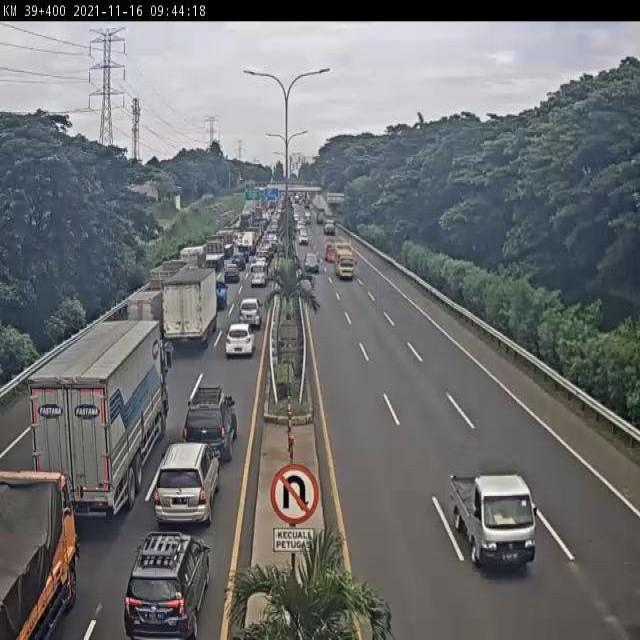car: (122, 532, 209, 640), (451, 472, 540, 571), (159, 439, 213, 521), (187, 388, 237, 449), (224, 322, 254, 358), (236, 298, 261, 330), (303, 244, 320, 273), (249, 262, 266, 286), (232, 252, 247, 272), (254, 250, 270, 266), (225, 264, 238, 283), (299, 228, 309, 244), (303, 211, 311, 224), (297, 219, 303, 229), (293, 211, 299, 220)
small truck: (128, 289, 161, 340), (334, 237, 356, 279), (322, 214, 335, 234), (325, 235, 335, 260), (315, 208, 325, 221)
truck-l-: (26, 319, 171, 525), (203, 240, 224, 271), (215, 231, 234, 253)
truck-m-: (0, 468, 73, 640), (162, 263, 215, 352)
